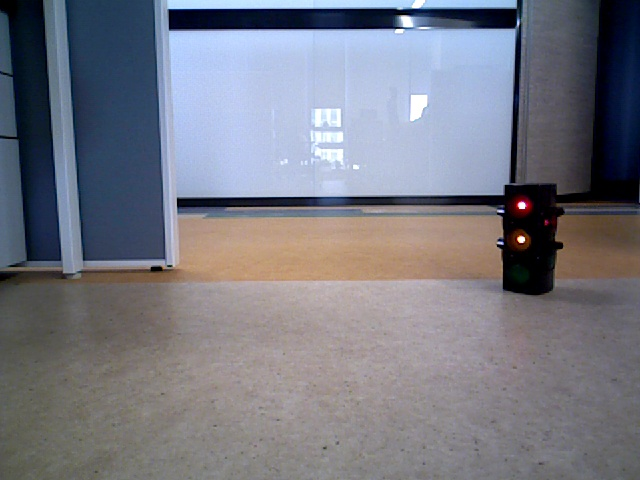red: (505, 187, 553, 288)
